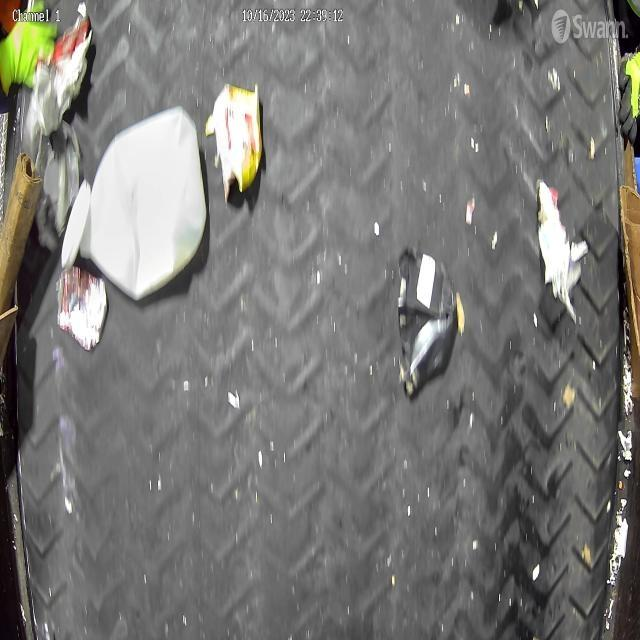milk_jug: (79, 105, 208, 300)
